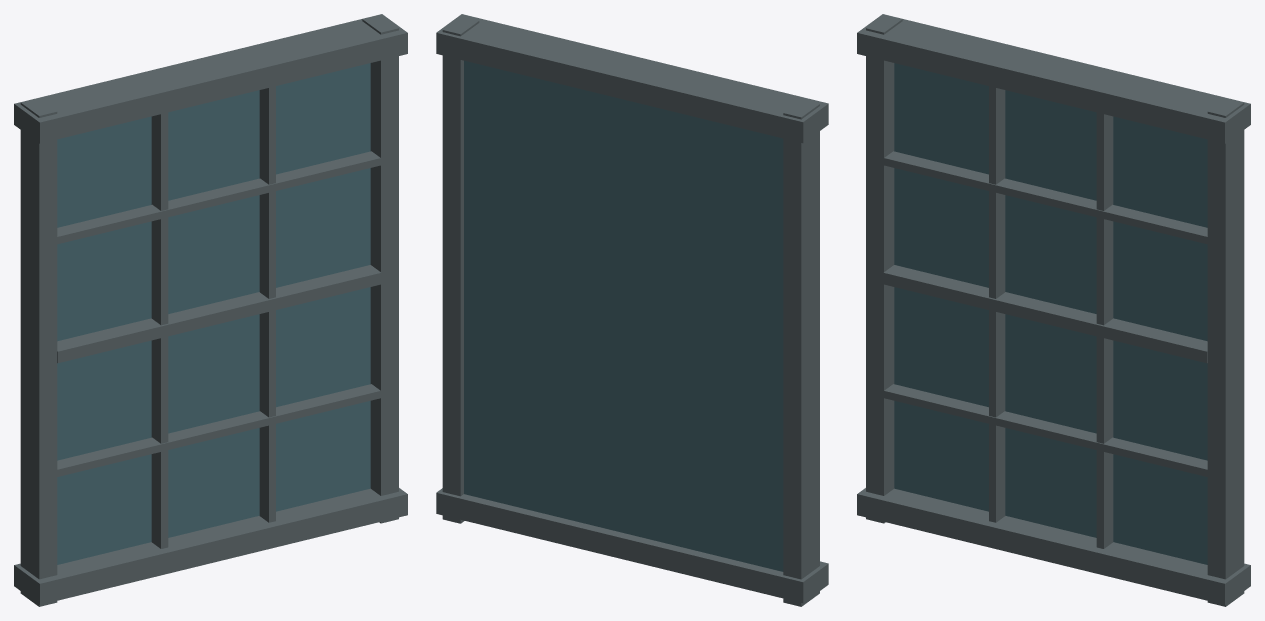
The picture shows the model from 3 angles, left to right: view 1: azimuth 30°, elevation 25°; view 2: azimuth 150°, elevation 25°; view 3: azimuth 330°, elevation 25°; orthographic projection.
Visible parts, largest first — view 1: QH-A0043_V01_geometry; view 2: QH-A0043_V01_geometry; view 3: QH-A0043_V01_geometry.
Part boxes in pixels (left/top/right/bottom): QH-A0043_V01_geometry: left=14, top=14, right=407, bottom=606; QH-A0043_V01_geometry: left=436, top=14, right=828, bottom=606; QH-A0043_V01_geometry: left=857, top=14, right=1250, bottom=606.
Bounding box in the file's own units: 1.82 × 2.32 × 0.22.
